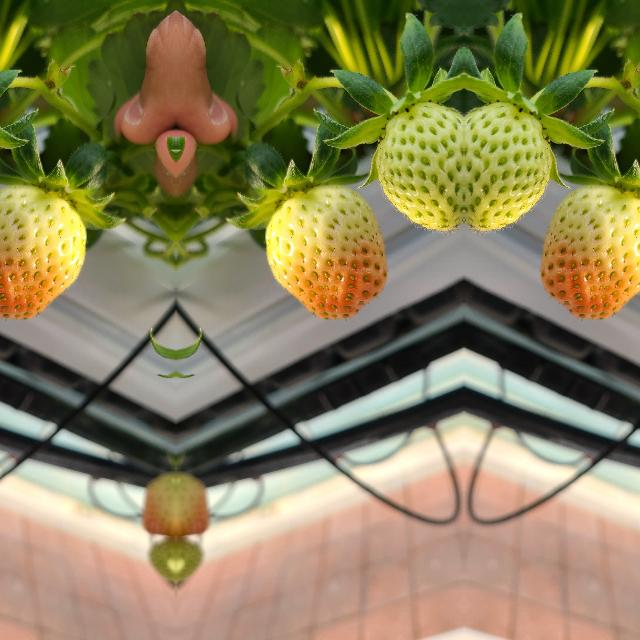Health_25: (373, 100, 462, 228), (463, 100, 552, 228)
Health_75: (264, 186, 386, 320), (540, 186, 640, 319), (0, 186, 86, 319)
